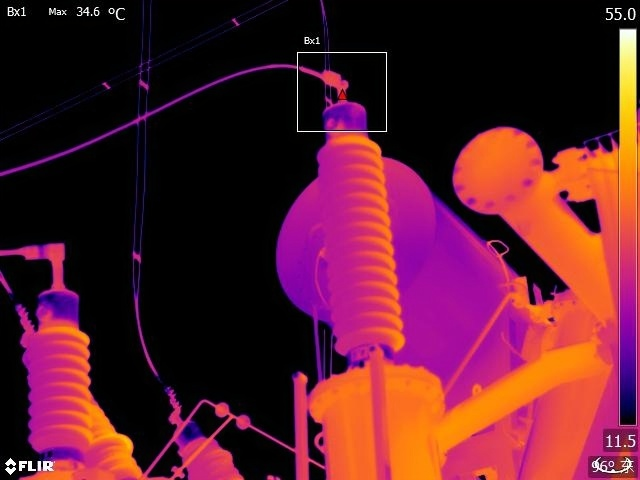oil conservator: (273, 139, 547, 364)
tube: (309, 97, 407, 374), (14, 263, 101, 460), (164, 401, 245, 480)
